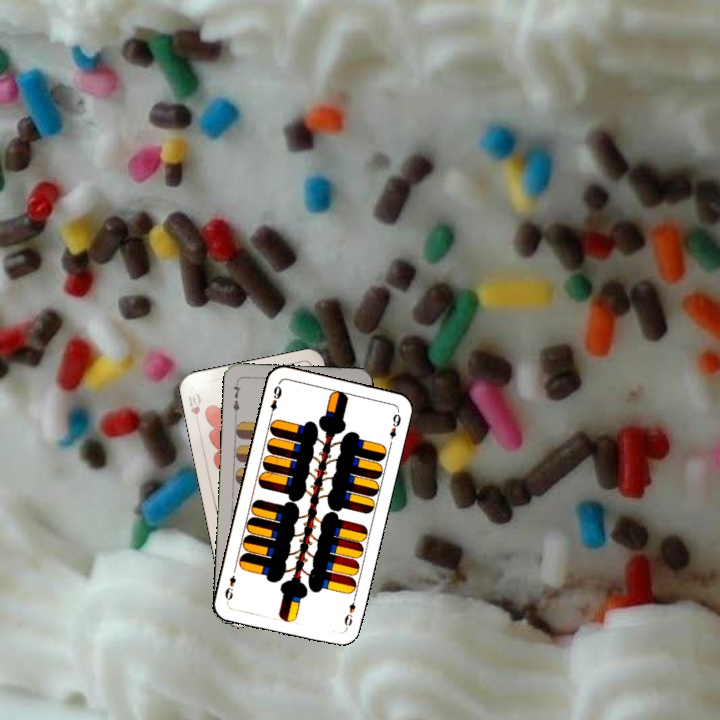E7: (229, 378, 244, 418)
E9: (340, 592, 359, 632), (266, 382, 284, 420)
H10: (184, 388, 204, 427)
